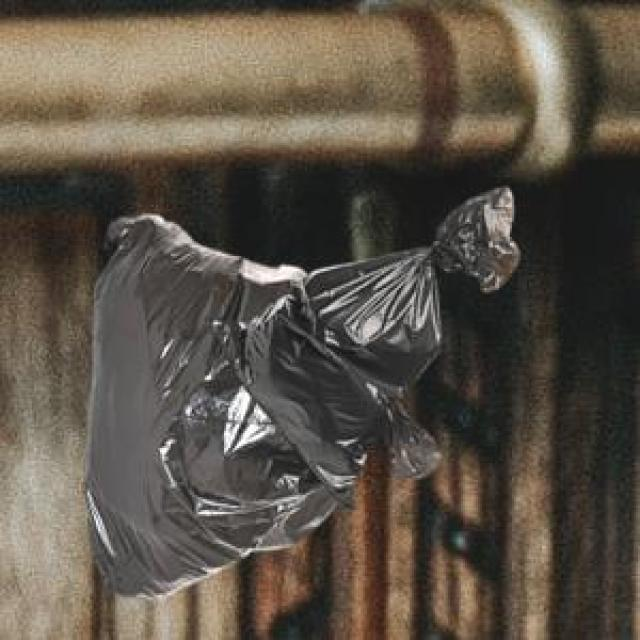Trashbag: (71, 204, 286, 609), (241, 251, 445, 467)
